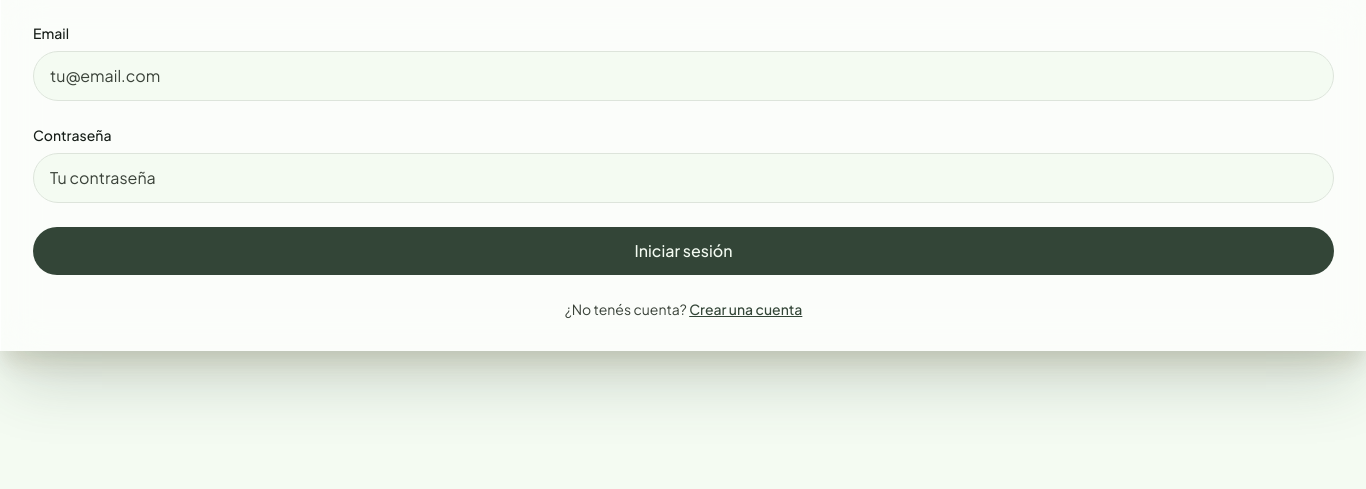
Test: LoginForm component › shows error when fields are empty on submit
Click the button "Iniciar sesión". click: (684, 251)
box: [33, 227, 1334, 275]
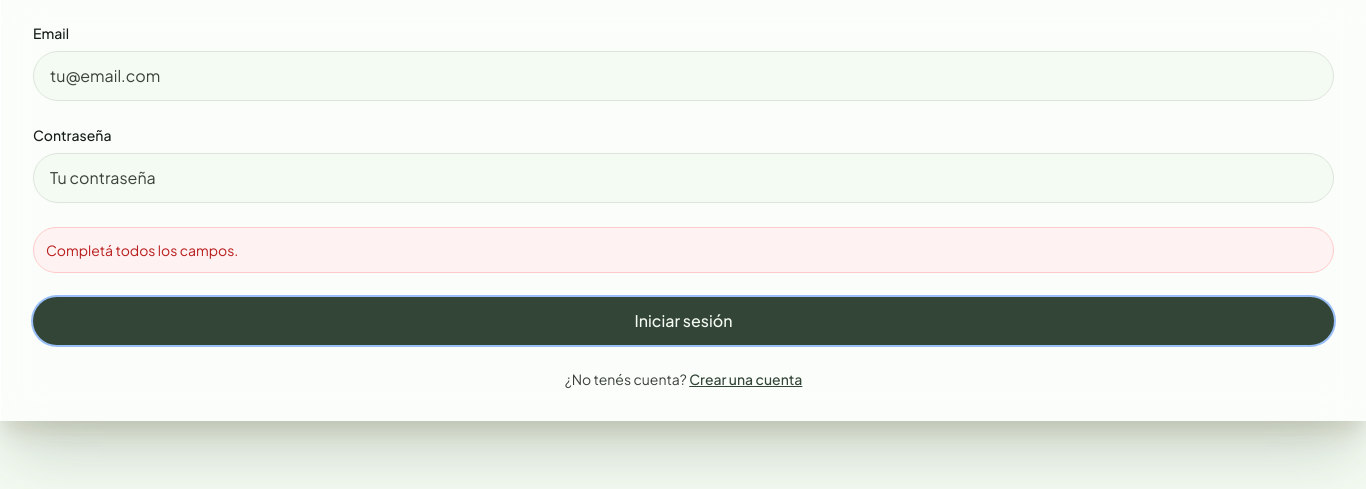
Expected: the text "Completá todos los campos." is shown, [46, 241, 238, 259]
